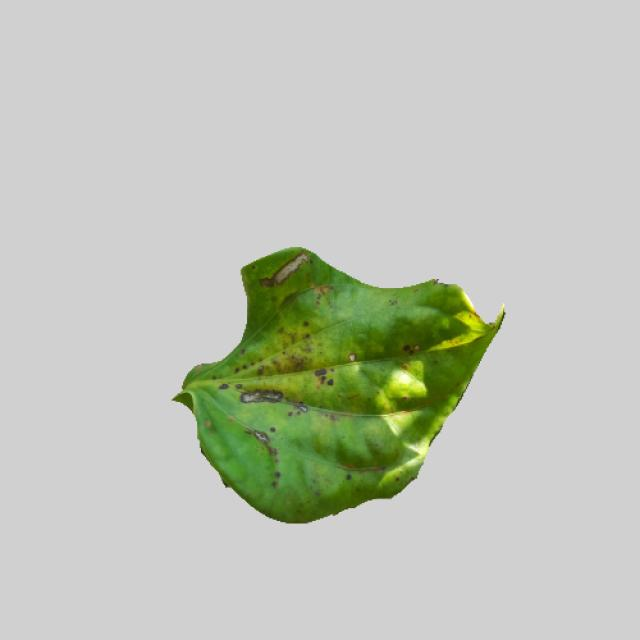yellow-mottle-virus: (166, 247, 511, 526)
